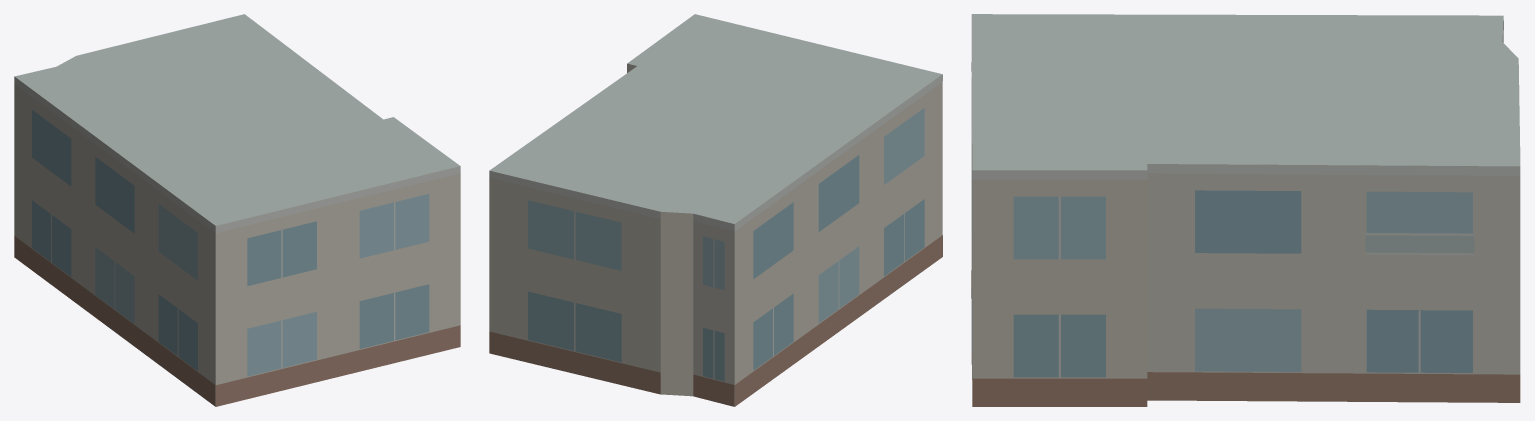
File: survey-upis-32943625.glb
3 renders of one model, left to right at view 1: azimuth 30°, elevation 25°; view 2: azimuth 150°, elevation 25°; view 3: azimuth 270°, elevation 25°, orthographic. The views are drawn at different scales.
Visible parts, largest first — view 1: survey-upis-32943625.tmp; view 2: survey-upis-32943625.tmp; view 3: survey-upis-32943625.tmp.
Part boxes in pixels (x1,y1,x2,y2): survey-upis-32943625.tmp: (14, 14, 460, 406); survey-upis-32943625.tmp: (489, 14, 942, 406); survey-upis-32943625.tmp: (971, 14, 1520, 406).
Size of the model in its own units: 8.66 by 6.1 by 12.85.
